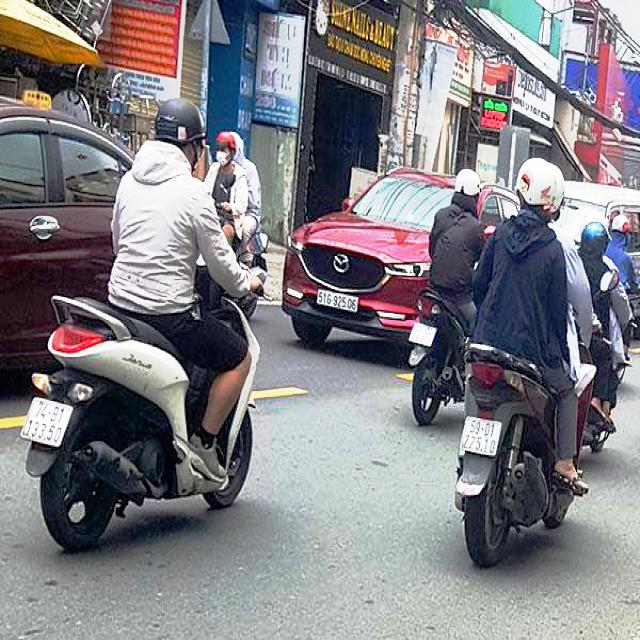license_plate: (23, 399, 72, 447), (461, 416, 504, 459), (316, 290, 360, 317)
